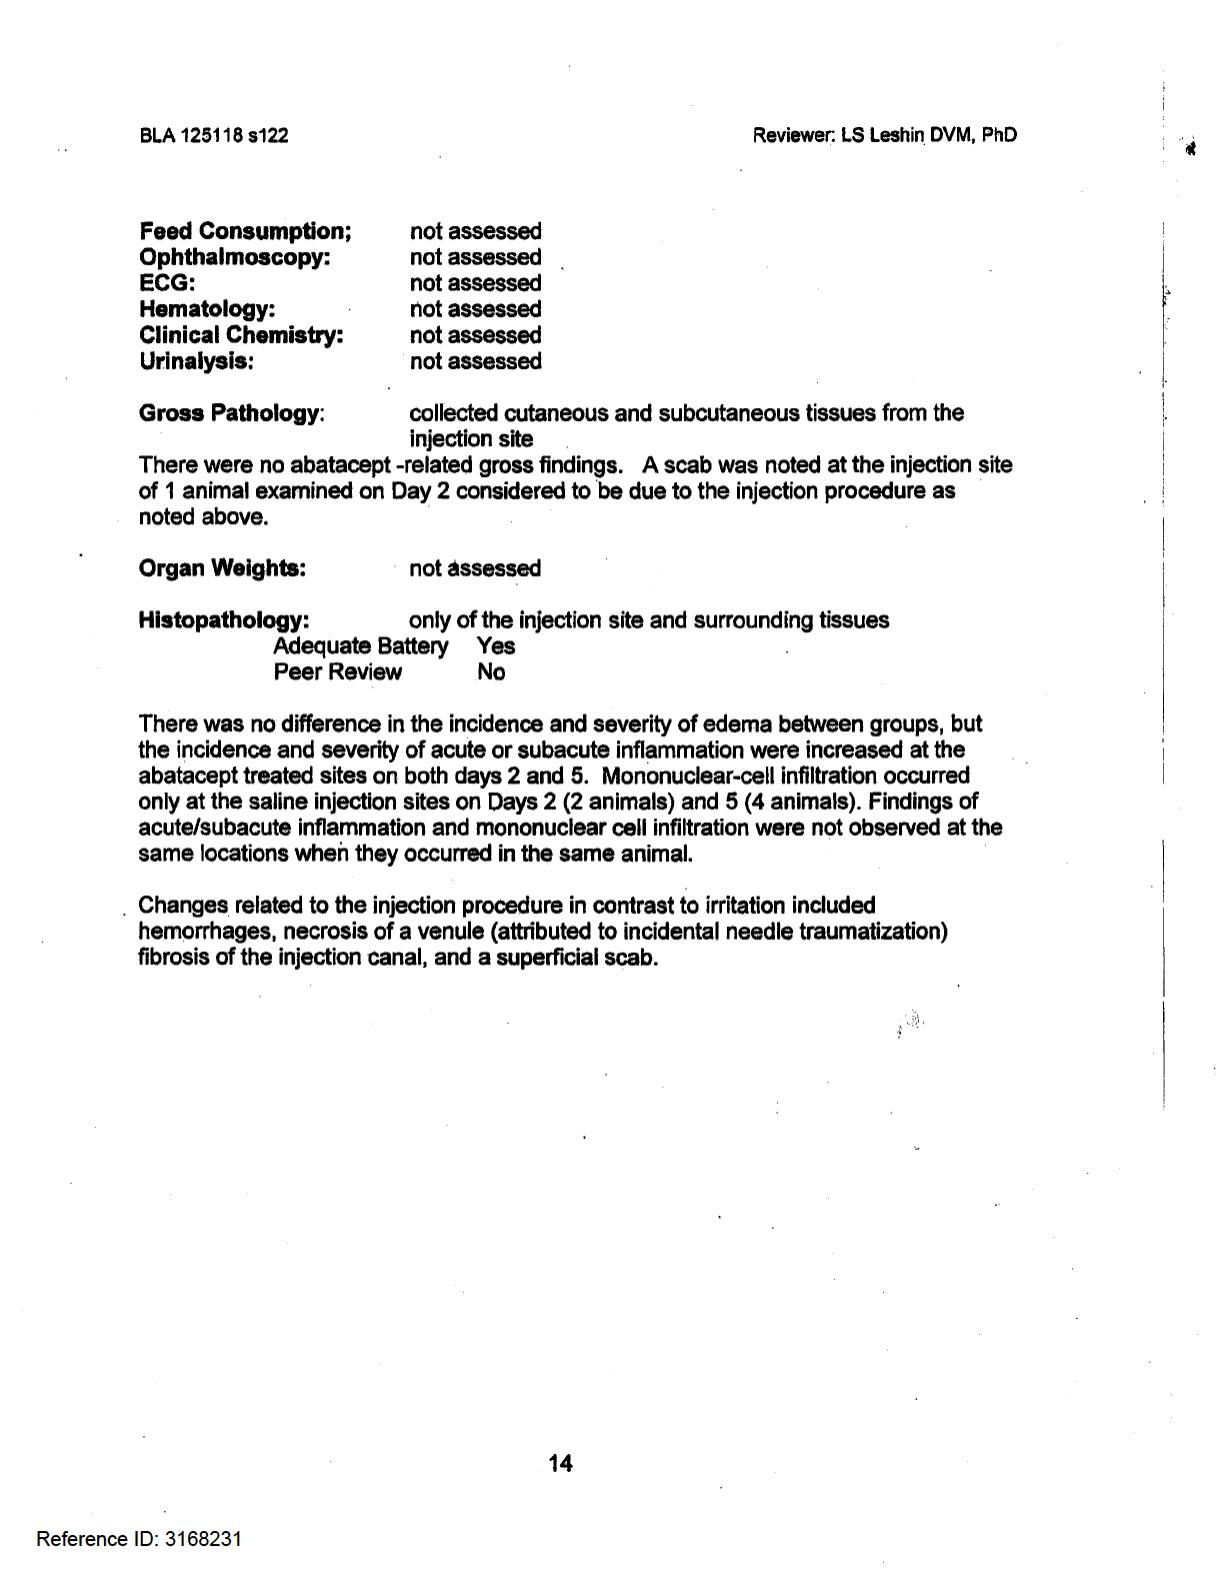nolines: (137, 214, 545, 378)
